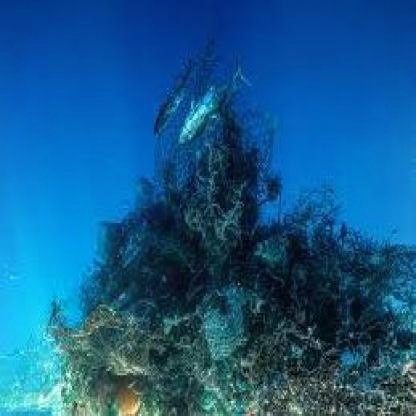net: (62, 184, 416, 415)
